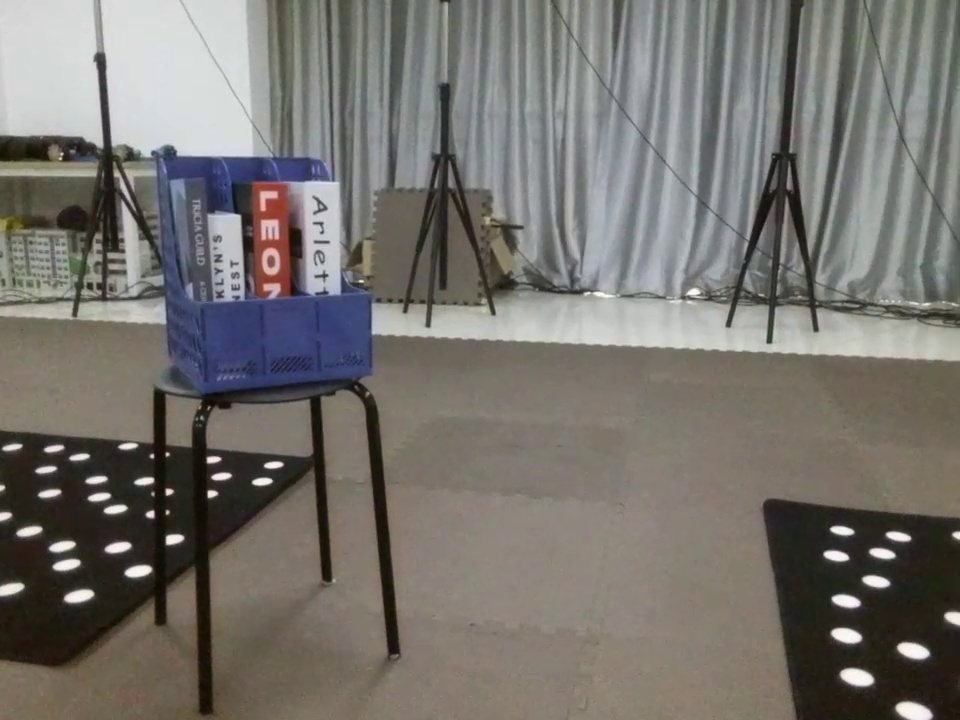files: (141, 142, 384, 396)
